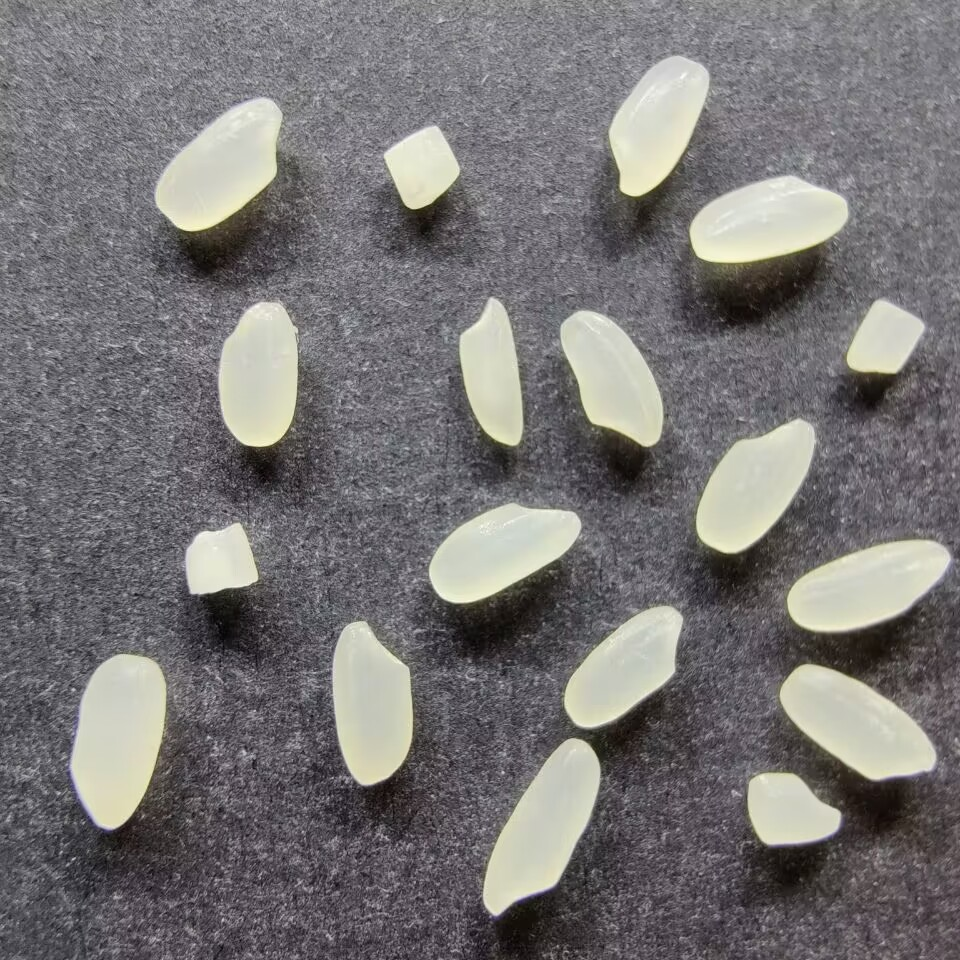broken: (744, 769, 845, 847), (381, 125, 463, 210), (844, 297, 928, 377), (182, 523, 260, 596)
rice: (480, 736, 602, 919), (777, 661, 936, 784), (152, 95, 284, 235), (65, 650, 167, 831), (693, 418, 817, 555), (427, 500, 581, 605), (785, 537, 949, 633), (562, 602, 684, 730), (558, 308, 666, 448), (688, 173, 850, 265), (606, 54, 710, 197), (329, 619, 414, 787), (215, 299, 299, 446), (456, 295, 526, 447)
